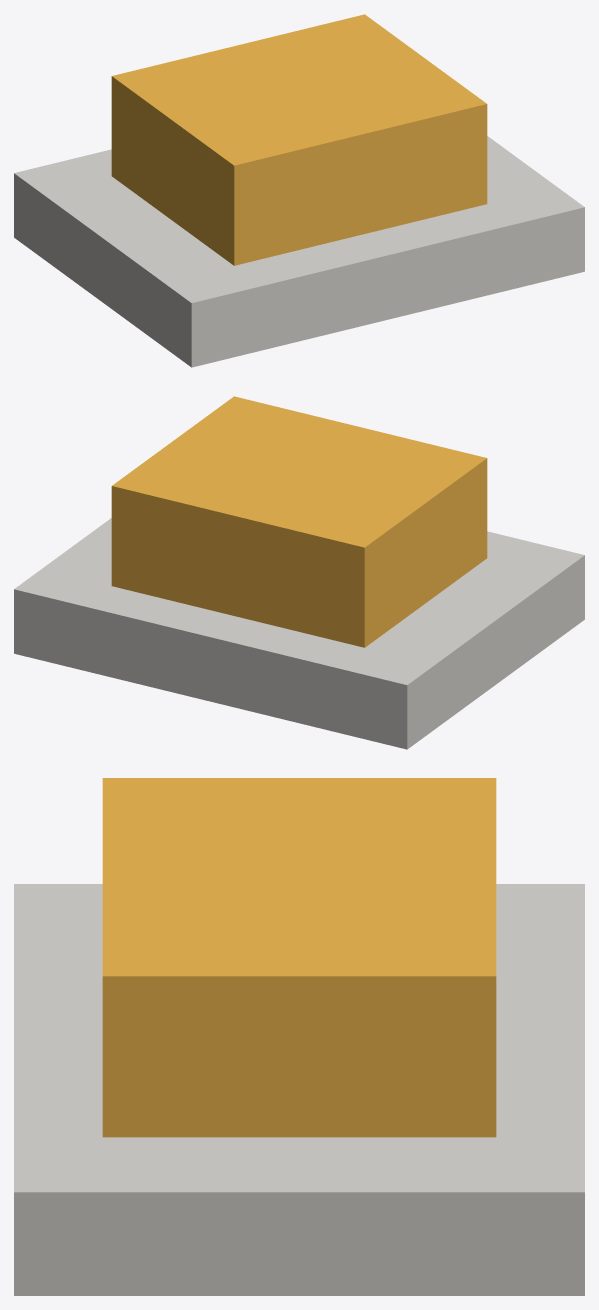
File: kitchen_table-lv1.glb
3 renders of one model, top to bottom at view 1: azimuth 30°, elevation 25°; view 2: azimuth 150°, elevation 25°; view 3: azimuth 270°, elevation 25°, orthographic. The views are drawn at different scales.
Visible parts, largest first — view 1: Level1, Base; view 2: Level1, Base; view 3: Level1, Base.
Part boxes in pixels (box(x1,y1,x2,y2)): Level1: box(111, 14, 487, 265); Base: box(14, 136, 584, 367); Level1: box(111, 396, 487, 647); Base: box(14, 518, 584, 749); Level1: box(102, 778, 496, 1137); Base: box(14, 884, 584, 1295).
Bounding box in the file's own units: 1.15 × 0.46 × 0.9.
